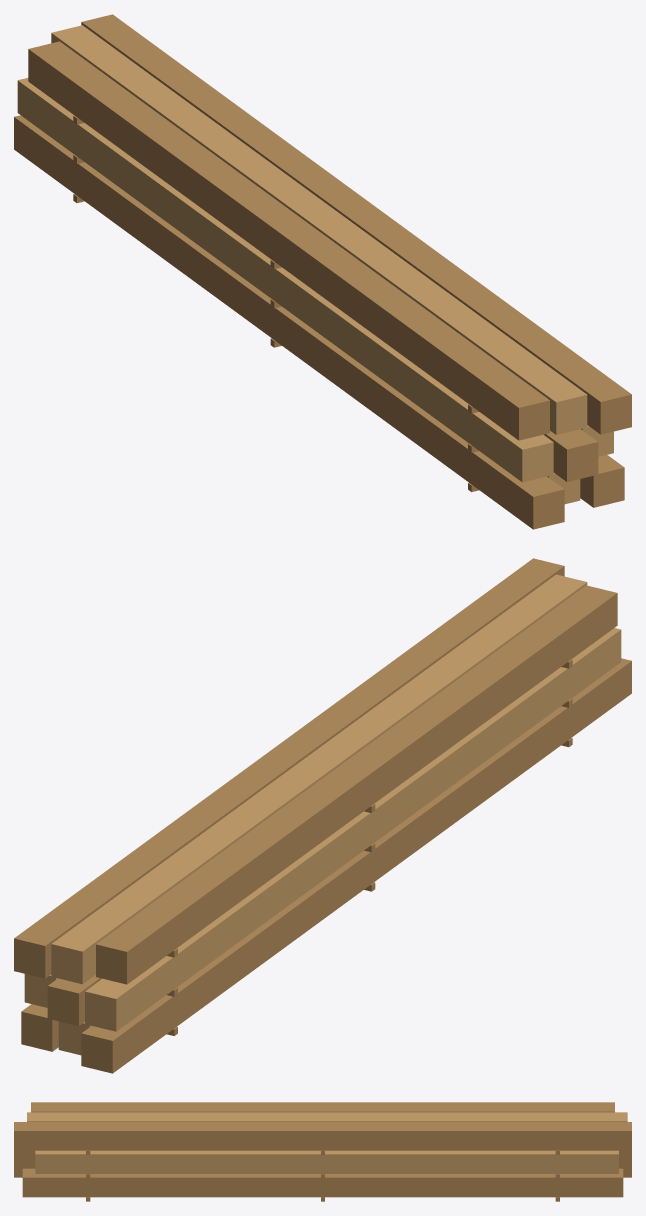
Rendered from plant.store.timber_long.glb.
The picture shows the model from 3 angles, top to bottom: view 1: azimuth 30°, elevation 25°; view 2: azimuth 150°, elevation 25°; view 3: azimuth 270°, elevation 25°; orthographic projection. The views are drawn at different scales.
Parts seen in each view (by area): view 1: main__softwood, main__glulam; view 2: main__softwood, main__glulam; view 3: main__softwood, main__glulam.
Boxes of the visible parts, x1,y1,x2,y2 form: main__softwood: [14, 14, 631, 529]; main__glulam: [17, 25, 613, 504]; main__softwood: [14, 558, 631, 1073]; main__glulam: [24, 574, 621, 1055]; main__softwood: [14, 1102, 631, 1201]; main__glulam: [27, 1112, 627, 1173].
Bounding box in the file's own units: 0.81 × 0.9 × 7.2.
